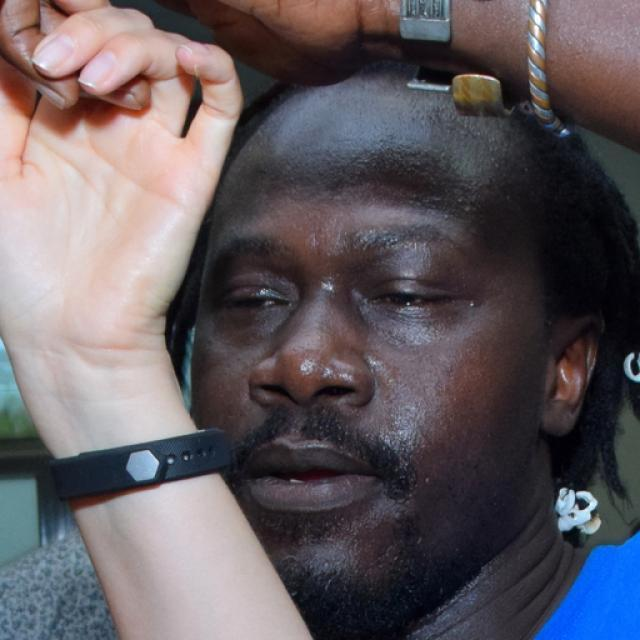neutral: (192, 70, 550, 640)
